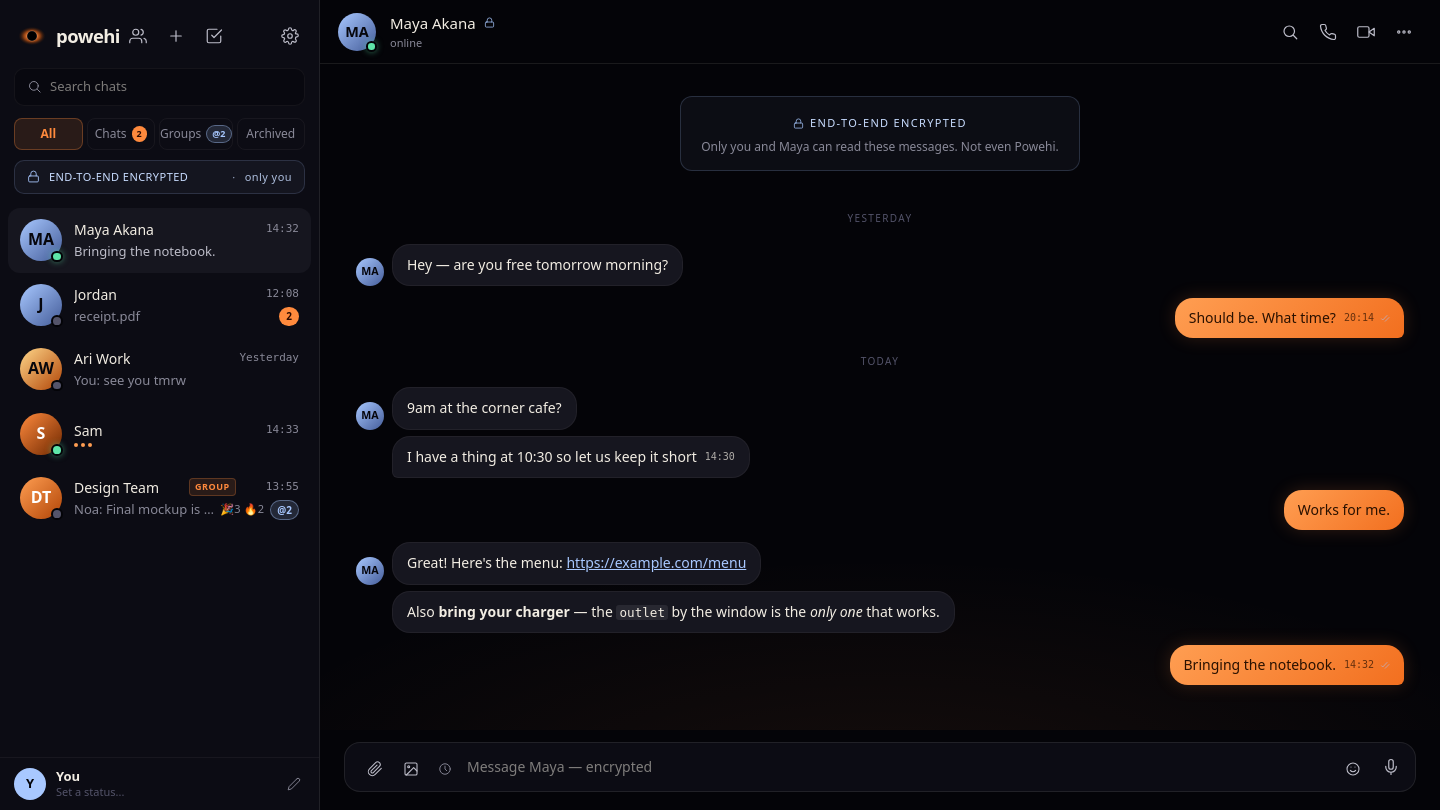
Test: ChatLayout — voice messages › clicking the mic button starts recording and shows the recording indicator
Click the button named "Voice".
click(1391, 767)  # box left=1373, top=749, right=1409, bottom=785
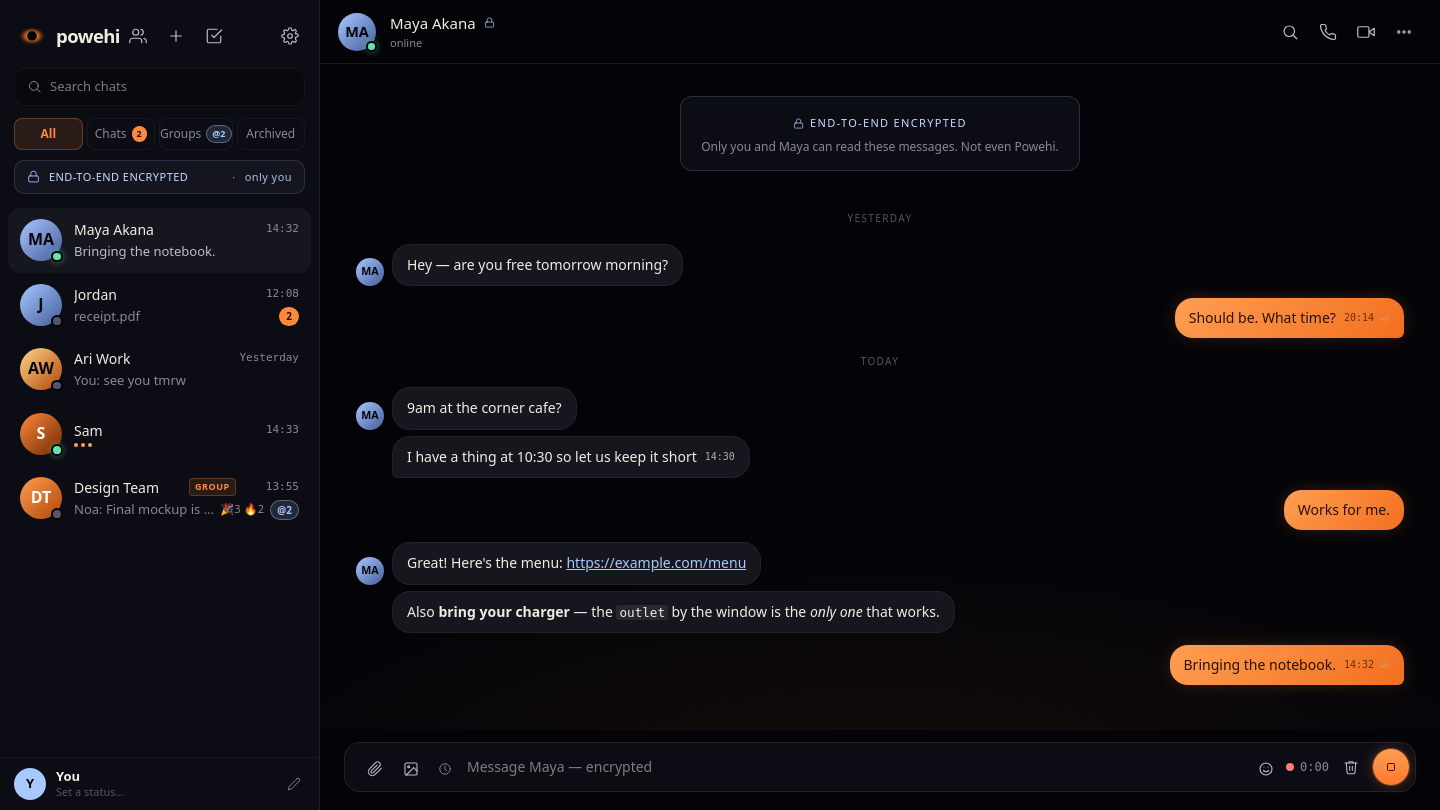
Expected: the element with test id "voice-recording-indicator" is shown, left=1286, top=749, right=1409, bottom=785
Expected: the text with test id "voice-elapsed" reads "0:00", left=1300, top=760, right=1329, bottom=774
Expected: the button "Voice" is gone
